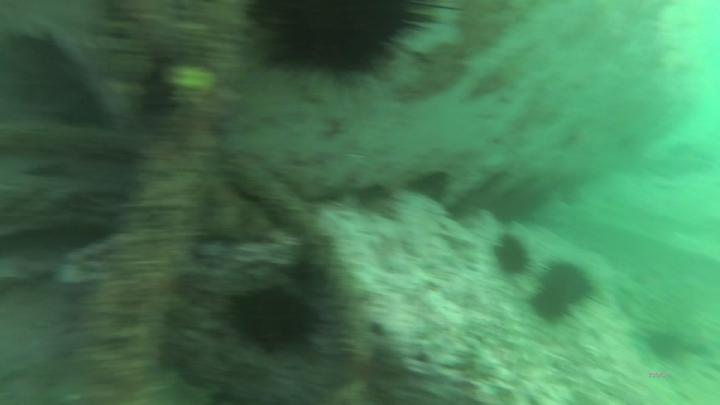echinus: (247, 2, 429, 83), (232, 287, 316, 352), (546, 259, 595, 308), (527, 286, 577, 329), (494, 234, 528, 281)
